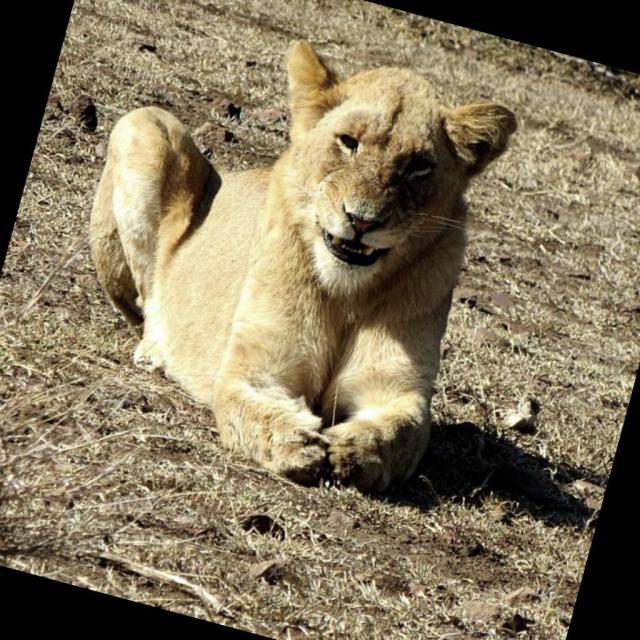Lion: (34, 0, 527, 510)
